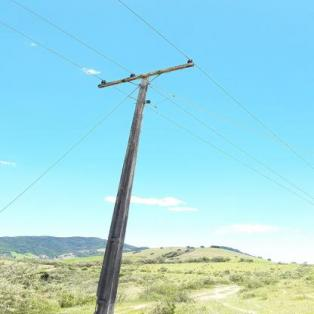Poste: (91, 70, 157, 314)
